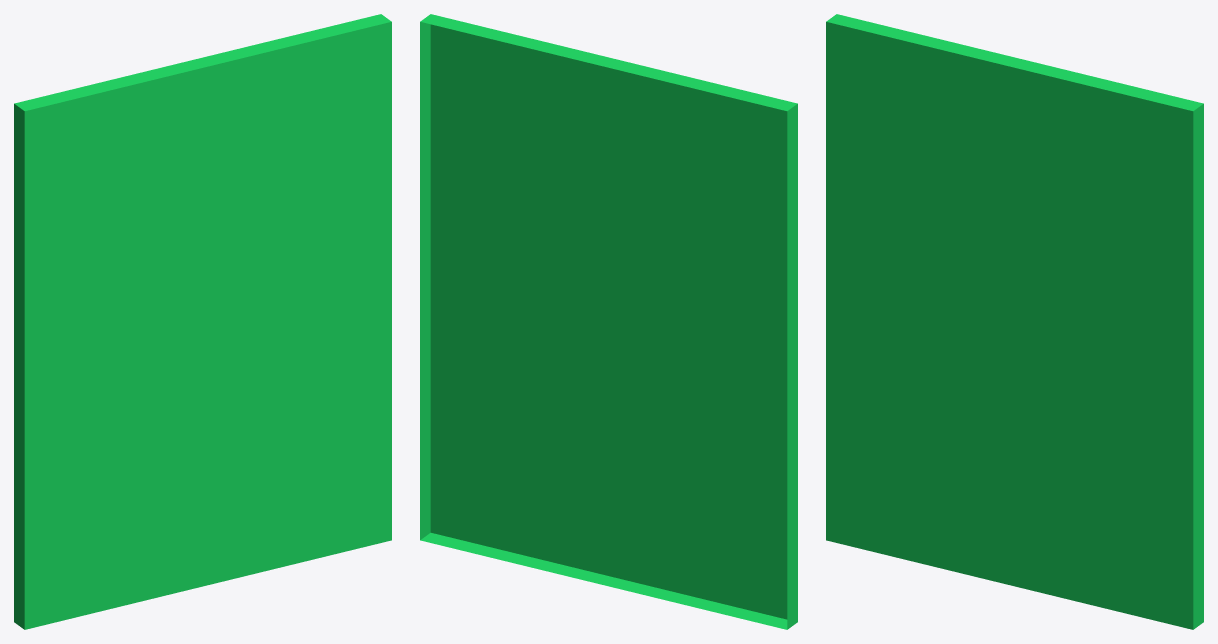
Rendered from SM_wall_window_sau.fbx.
3 views of the same model, side by side, from view 1: azimuth 30°, elevation 25°; view 2: azimuth 150°, elevation 25°; view 3: azimuth 330°, elevation 25° (orthographic).
Parts seen in each view (by area): view 1: squ_win_low.001; view 2: squ_win_low.001; view 3: squ_win_low.001.
Part boxes in pixels (bbox=[...]): squ_win_low.001: bbox=[14, 14, 391, 629]; squ_win_low.001: bbox=[420, 14, 797, 629]; squ_win_low.001: bbox=[826, 14, 1203, 629].
Size of the model in its own units: 200 by 270 by 10.
